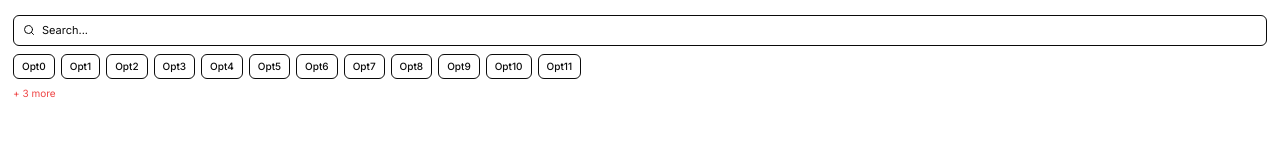
ChipMultiSelect › search active → 'Show less'/'+ N more' suppressed regardless of count
This screenshot has width=1280, height=160.
Type "Opt1" into the field with placeholder "Search...".
click(640, 30); type("Opt1")  # box [13,15,1267,46]
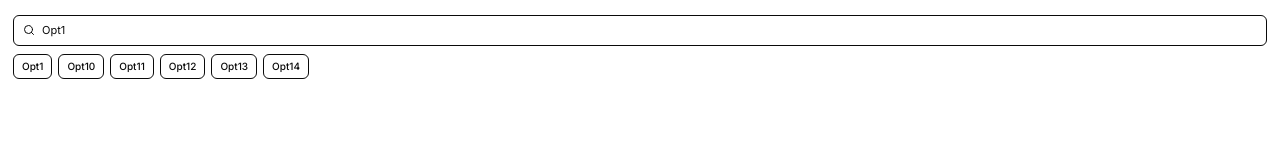
Check: the button "+ 3 more" is gone
